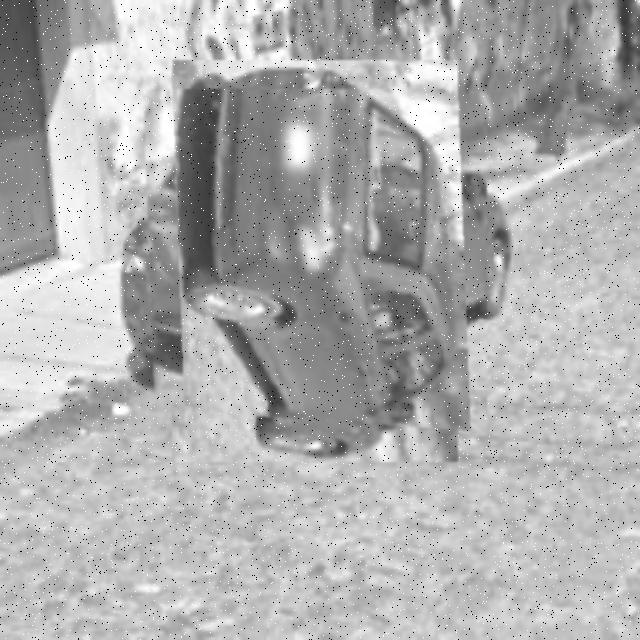car: (143, 90, 488, 434)
